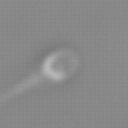normal: (1, 69, 44, 114)
